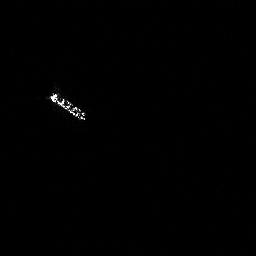ship: (49, 92, 86, 122)
